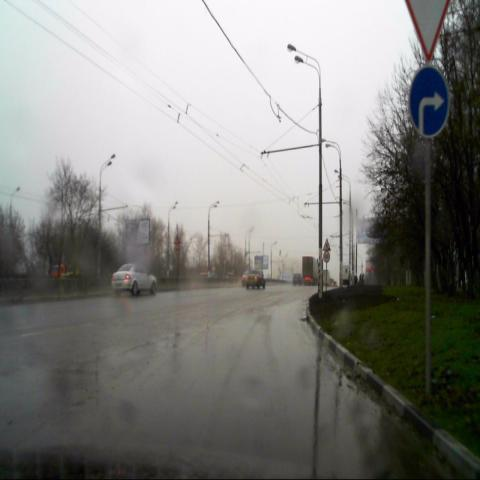4_1_2: (410, 65, 449, 136)
